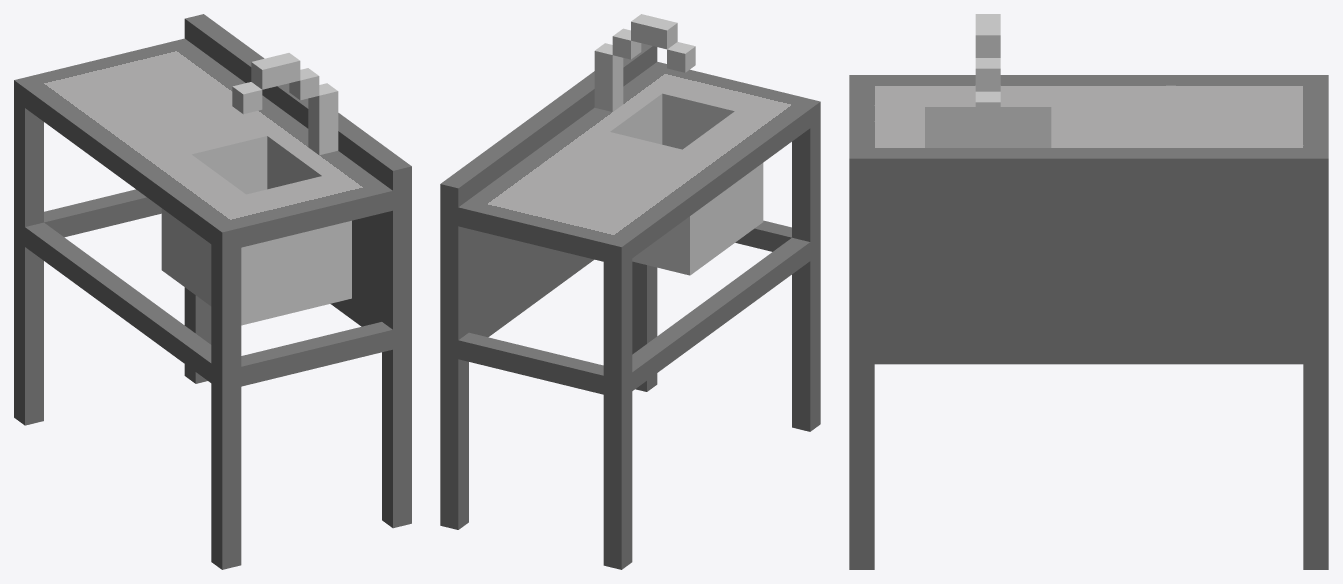
File: xxGhiuvetaxx.fbx
3 views of the same model, side by side, from view 1: azimuth 30°, elevation 25°; view 2: azimuth 150°, elevation 25°; view 3: azimuth 270°, elevation 25° (orthographic). The views are drawn at different scales.
Parts seen in each view (by area): view 1: cube_14, cube_15, cube_1, cube, cube_13, cube_3, cube_4, cube_10, cube_17, cube_7, cube_16, cube_5 (+10 smaller); view 2: cube_14, cube_15, cube_3, cube_13, cube_2, cube_1, cube_5, cube_4, cube_17, cube_6, cube_16, cube_8 (+10 smaller); view 3: cube_5, cube_14, cube_17, cube_13, cube_15, cube, cube_2, cube_16, cube_11, cube_18, cube_20, cube_19.
Part boxes in pixels (left/top/right/bottom): cube_14: left=14, top=66, right=278, bottom=252; cube_15: left=71, top=48, right=267, bottom=169; cube_1: left=211, top=244, right=241, bottom=569; cube: left=382, top=206, right=411, bottom=528; cube_13: left=147, top=38, right=411, bottom=219; cube_3: left=14, top=100, right=43, bottom=425; cube_4: left=25, top=222, right=211, bottom=382; cube_10: left=241, top=220, right=351, bottom=305; cube_17: left=184, top=14, right=411, bottom=190; cube_7: left=241, top=322, right=392, bottom=386; cube_16: left=246, top=176, right=354, bottom=238; cube_5: left=330, top=213, right=381, bottom=326; cube_14: left=567, top=88, right=820, bottom=265; cube_15: left=494, top=132, right=681, bottom=252; cube_3: left=603, top=259, right=632, bottom=569; cube_13: left=440, top=62, right=693, bottom=234; cube_2: left=440, top=222, right=468, bottom=529; cube_1: left=792, top=121, right=820, bottom=431; cube_5: left=469, top=229, right=593, bottom=337; cube_4: left=632, top=237, right=810, bottom=390; cube_17: left=440, top=43, right=657, bottom=207; cube_6: left=458, top=332, right=603, bottom=394; cube_16: left=662, top=70, right=765, bottom=125; cube_8: left=632, top=203, right=763, bottom=275; cube_5: left=874, top=204, right=1303, bottom=364; cube_14: left=849, top=75, right=1328, bottom=129; cube_17: left=849, top=148, right=1328, bottom=181; cube_13: left=849, top=181, right=1328, bottom=204; cube_15: left=1051, top=107, right=1328, bottom=147; cube: left=849, top=204, right=874, bottom=569; cube_2: left=1303, top=204, right=1328, bottom=569; cube_16: left=849, top=107, right=924, bottom=147; cube_11: left=925, top=129, right=1051, bottom=147; cube_18: left=975, top=91, right=1000, bottom=147; cube_20: left=975, top=14, right=1000, bottom=57; cube_19: left=975, top=58, right=1000, bottom=91.
Size of the model in its own units: 62.5 by 138 by 119.
Materials: 1 (1 with a texture image).
